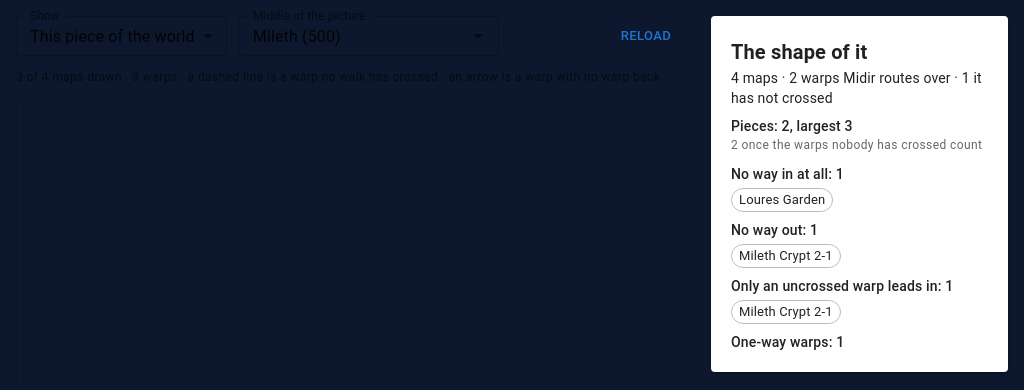
Test: the world graph view › draws everything when the scope says so
Expected: the element with test id "graph-report" is shown, left=711, top=16, right=1008, bottom=372
Click the dropdown named "Show": (112, 36) left=30, top=26, right=195, bottom=46
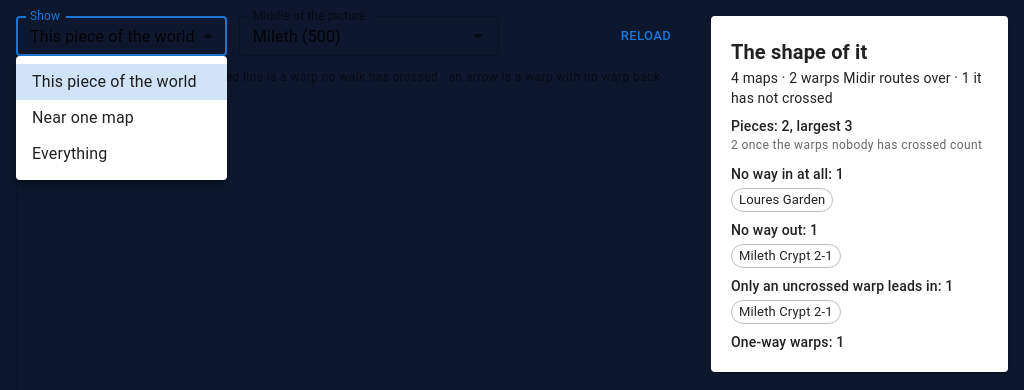
Click the option "Everything": (70, 154) left=32, top=144, right=107, bottom=163
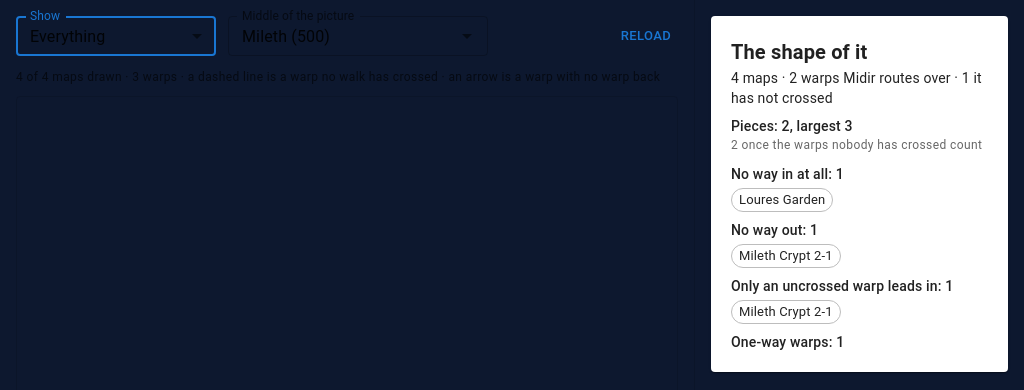
Expected: the text "4 of 4 maps drawn" is shown, left=16, top=68, right=678, bottom=88
